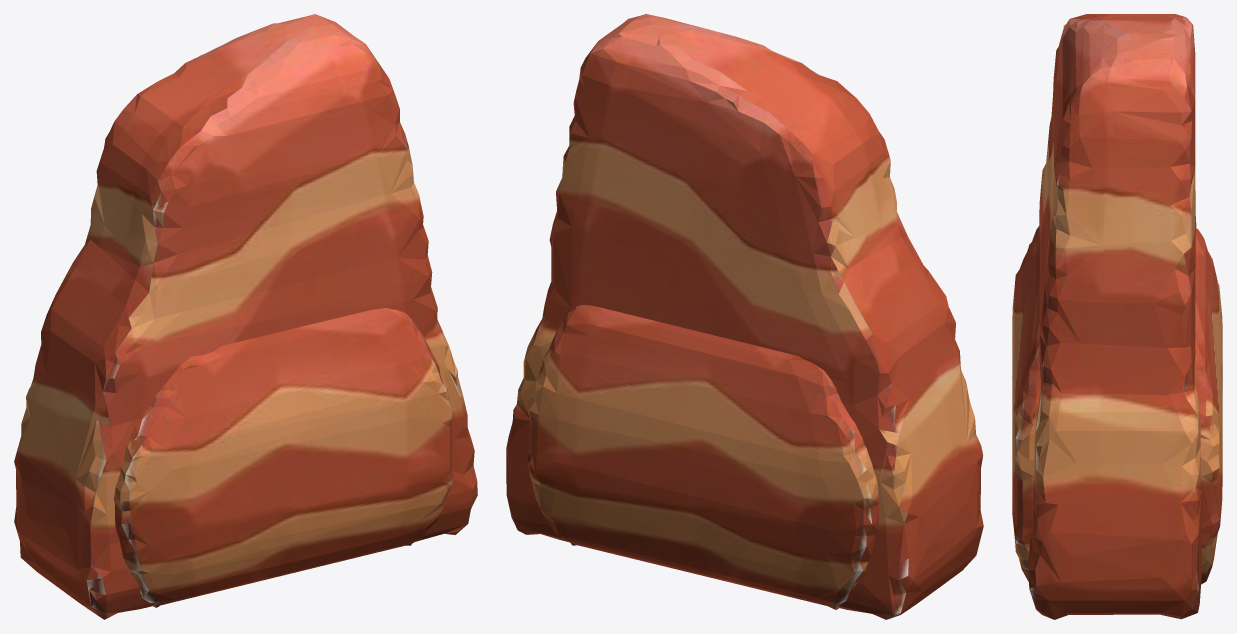
The model's file is rocks_mesa.glb.
The picture shows the model from 3 angles, left to right: view 1: azimuth 30°, elevation 25°; view 2: azimuth 150°, elevation 25°; view 3: azimuth 270°, elevation 25°; orthographic projection. The views are drawn at different scales.
Parts seen in each view (by area): view 1: rock_tall, rock_round; view 2: rock_tall, rock_round; view 3: rock_tall, rock_round.
Part boxes in pixels (x1,y1,x2,y2): rock_tall: (14, 14, 477, 619); rock_round: (114, 308, 454, 607); rock_tall: (506, 14, 983, 619); rock_round: (526, 305, 879, 609); rock_tall: (1028, 14, 1202, 619); rock_round: (1012, 225, 1222, 584).
Bounding box in the file's own units: 1.22 × 1.48 × 0.5434.
1 material, 1 textured.
